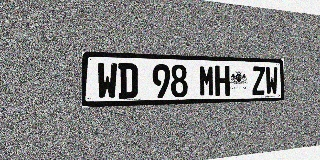8: (171, 64, 187, 97)
9: (152, 64, 170, 98)
D: (118, 63, 138, 99)
H: (215, 65, 230, 96)
M: (199, 65, 214, 97)
W: (97, 62, 117, 99), (265, 67, 278, 95)
Z: (252, 66, 265, 95)
